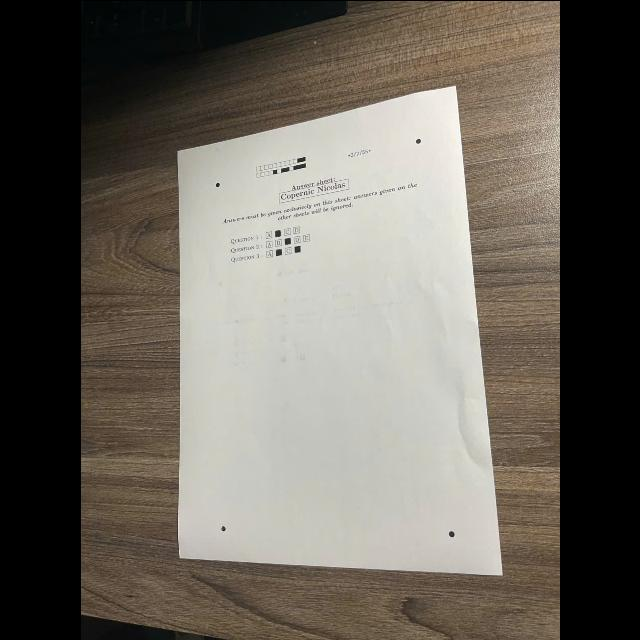Markers: (448, 530, 454, 538), (415, 137, 421, 143), (220, 526, 226, 532), (214, 182, 220, 186)
